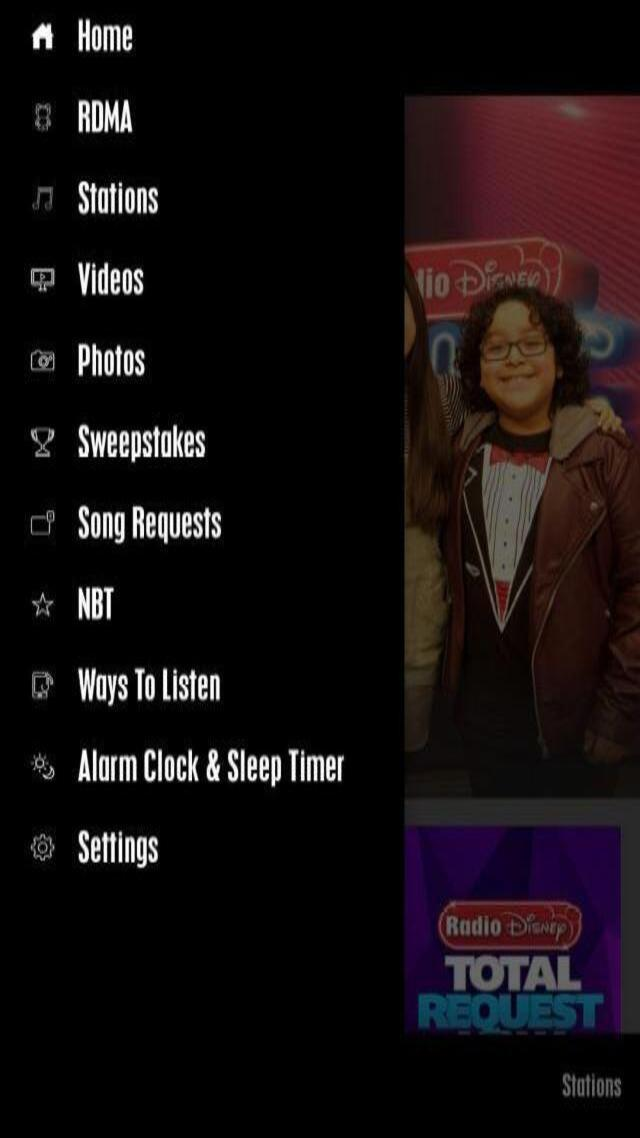Icon: (21, 666, 58, 707), (24, 422, 60, 464), (25, 99, 60, 137), (25, 586, 60, 624), (22, 507, 62, 540), (26, 18, 60, 56), (26, 828, 60, 866), (24, 346, 60, 380), (28, 749, 61, 786), (27, 262, 60, 297), (26, 184, 59, 218)
Image: (403, 83, 640, 681), (402, 788, 640, 1136)
Text: (72, 745, 352, 788), (74, 664, 226, 709), (72, 502, 226, 546), (70, 422, 213, 465), (72, 828, 166, 872), (70, 178, 164, 220), (74, 258, 150, 303), (75, 341, 152, 383), (71, 16, 142, 56), (73, 96, 139, 138), (558, 1074, 628, 1108), (73, 584, 121, 623)
